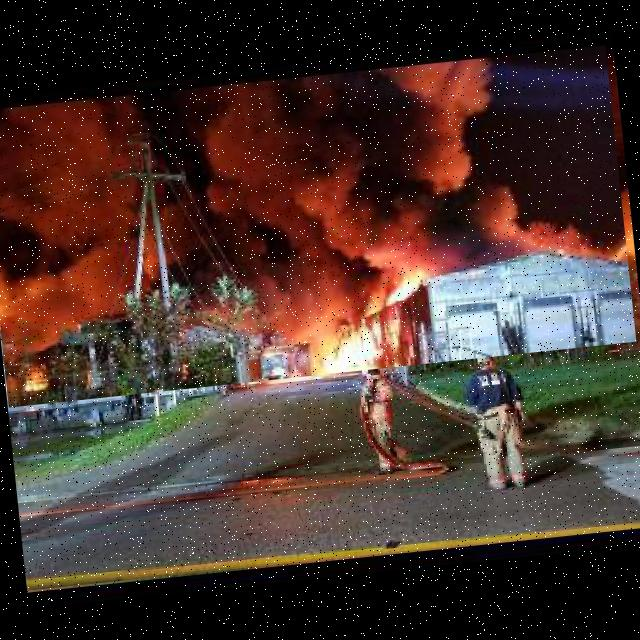fire: (0, 40, 636, 407)
